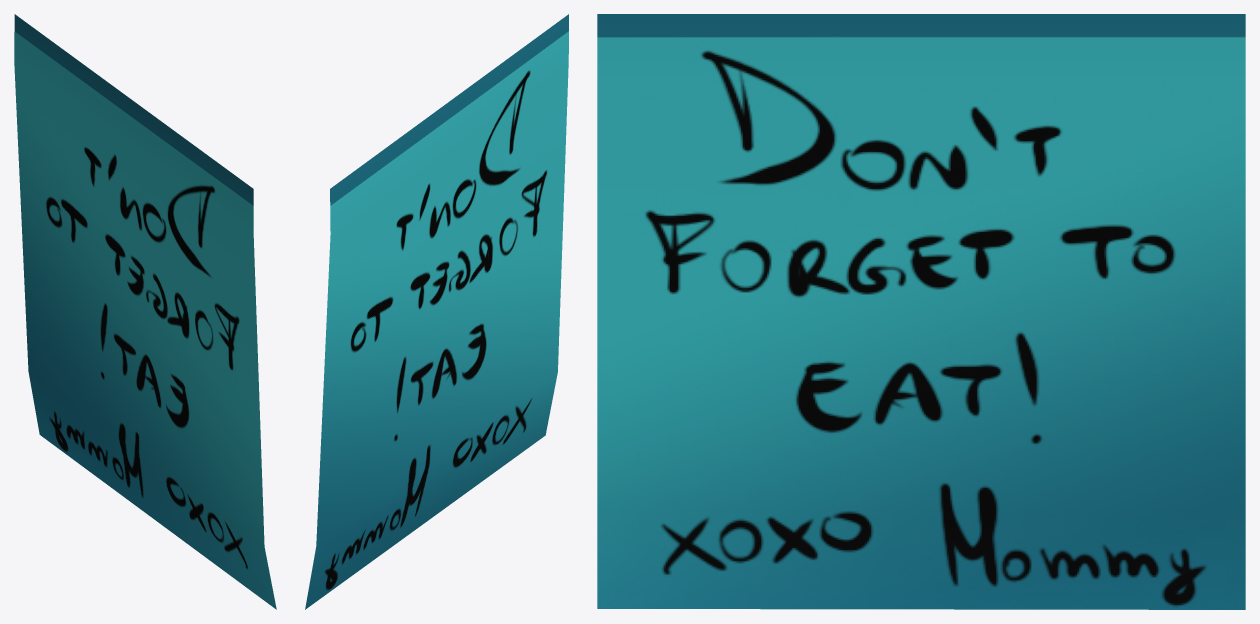
The model's file is Post-it_7.fbx.
3 views of the same model, side by side, from view 1: azimuth 30°, elevation 25°; view 2: azimuth 150°, elevation 25°; view 3: azimuth 270°, elevation 25° (orthographic). The views are drawn at different scales.
Visible parts, largest first — view 1: pPlane9; view 2: pPlane9; view 3: pPlane9.
Boxes of the visible parts, x1=… form: pPlane9: x1=14, y1=14, x2=276, y2=609; pPlane9: x1=305, y1=14, x2=568, y2=609; pPlane9: x1=597, y1=14, x2=1245, y2=609.
Size of the model in its own units: 0.6166 by 9.86 by 10.
